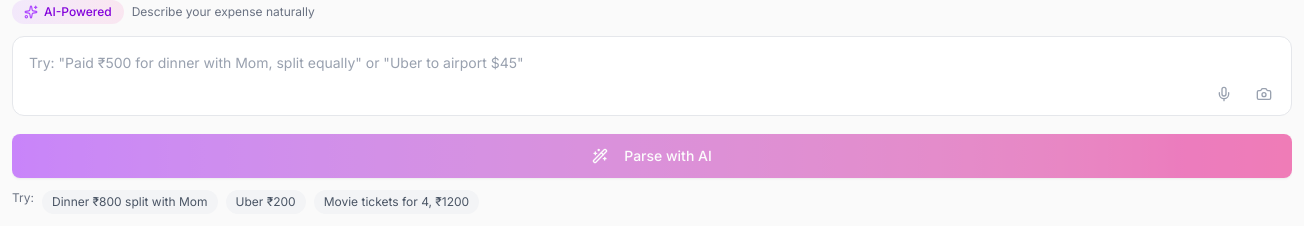
AIExpenseInput › enables parse button when input has text
Step 1. Type "Dinner 500" into the text box with placeholder "Try: \"Paid" → (652,76), box [12,36,1292,116]
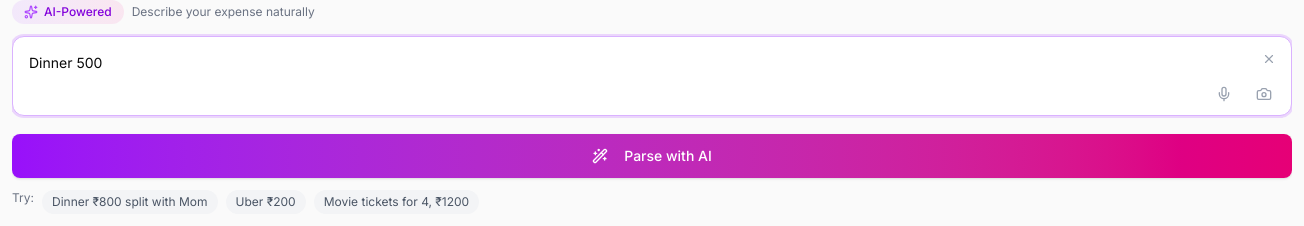
Expected: the button "Parse with AI" is enabled, [12,134,1292,178]
